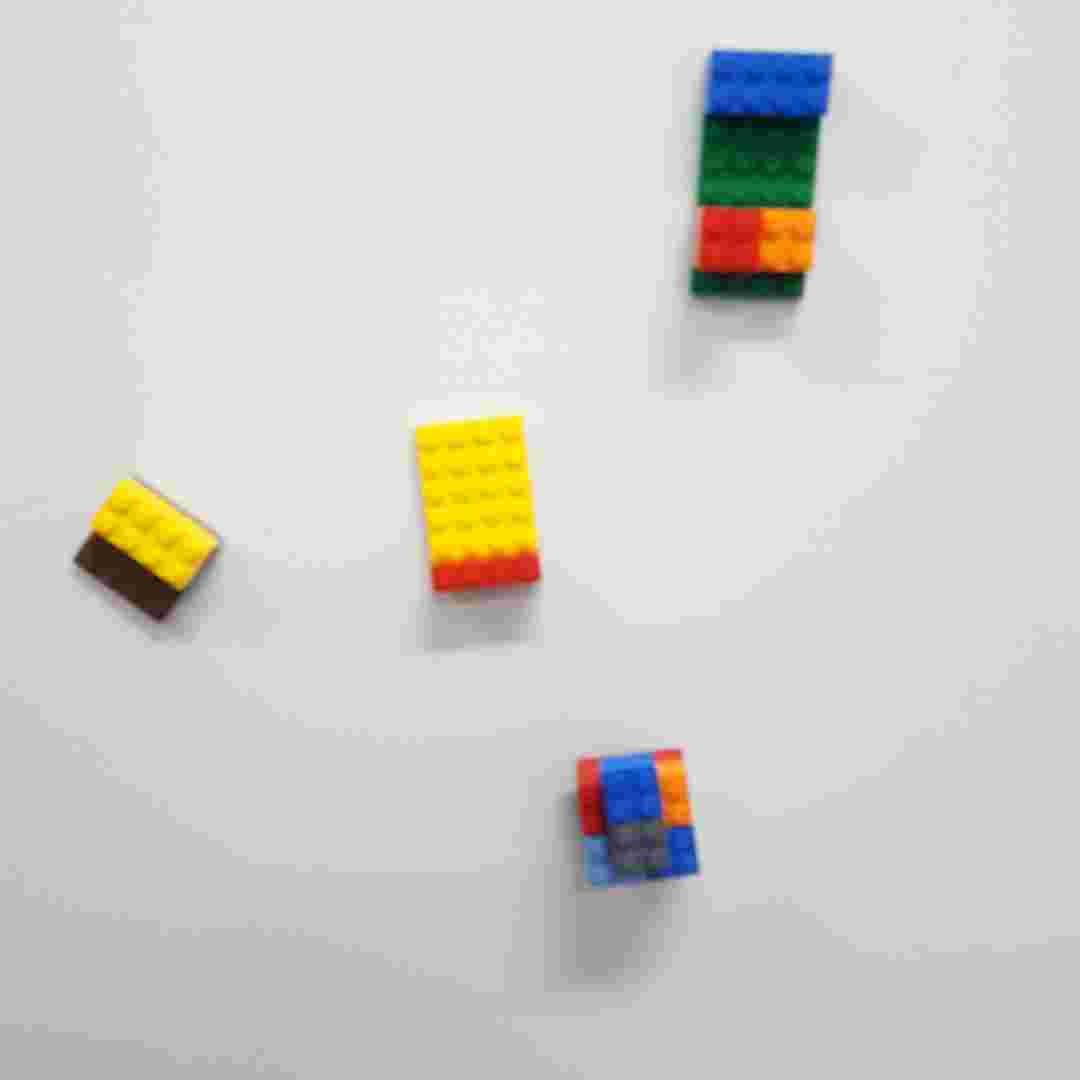LEGO: (691, 44, 823, 306), (401, 409, 550, 608), (67, 475, 228, 623), (572, 742, 706, 899)
